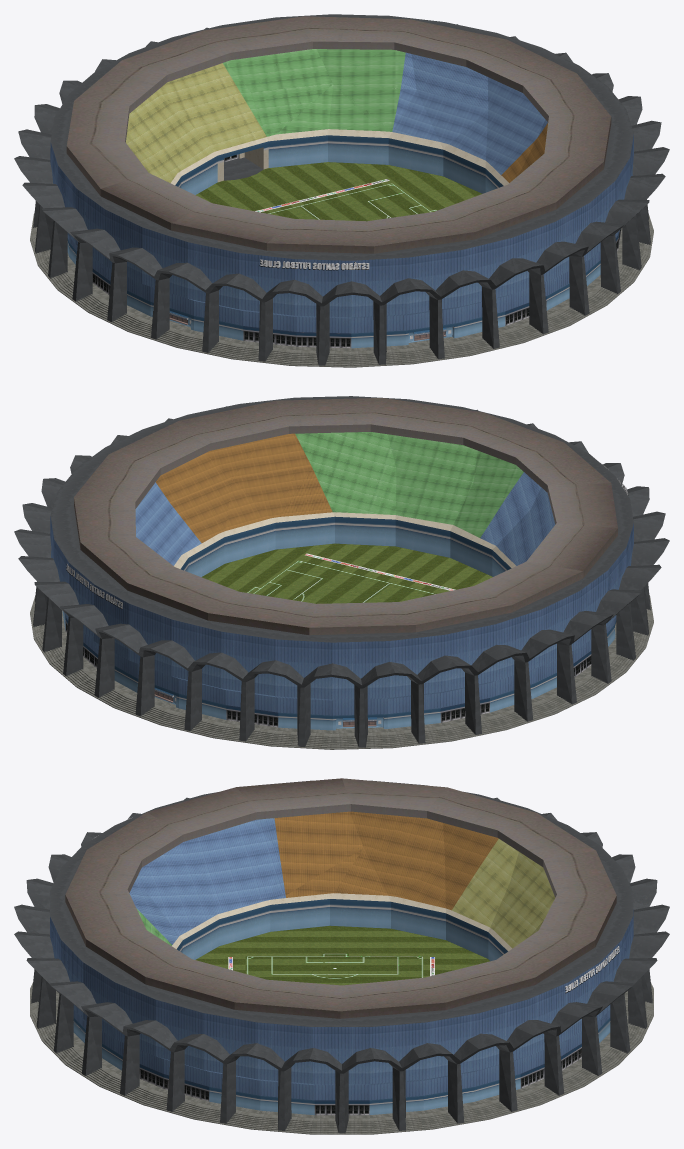
Rendered from gwforum1_lae.obj.
3 renders of one model, top to bottom at view 1: azimuth 30°, elevation 25°; view 2: azimuth 150°, elevation 25°; view 3: azimuth 270°, elevation 25°, orthographic.
Parts seen in each view (by area): view 1: gwforum1_LAe; view 2: gwforum1_LAe; view 3: gwforum1_LAe.
Boxes of the visible parts, bbox=[...] form: gwforum1_LAe: bbox=[14, 14, 669, 367]; gwforum1_LAe: bbox=[14, 396, 669, 749]; gwforum1_LAe: bbox=[14, 778, 669, 1134].
Size of the model in its own units: 157 by 27.95 by 157.
